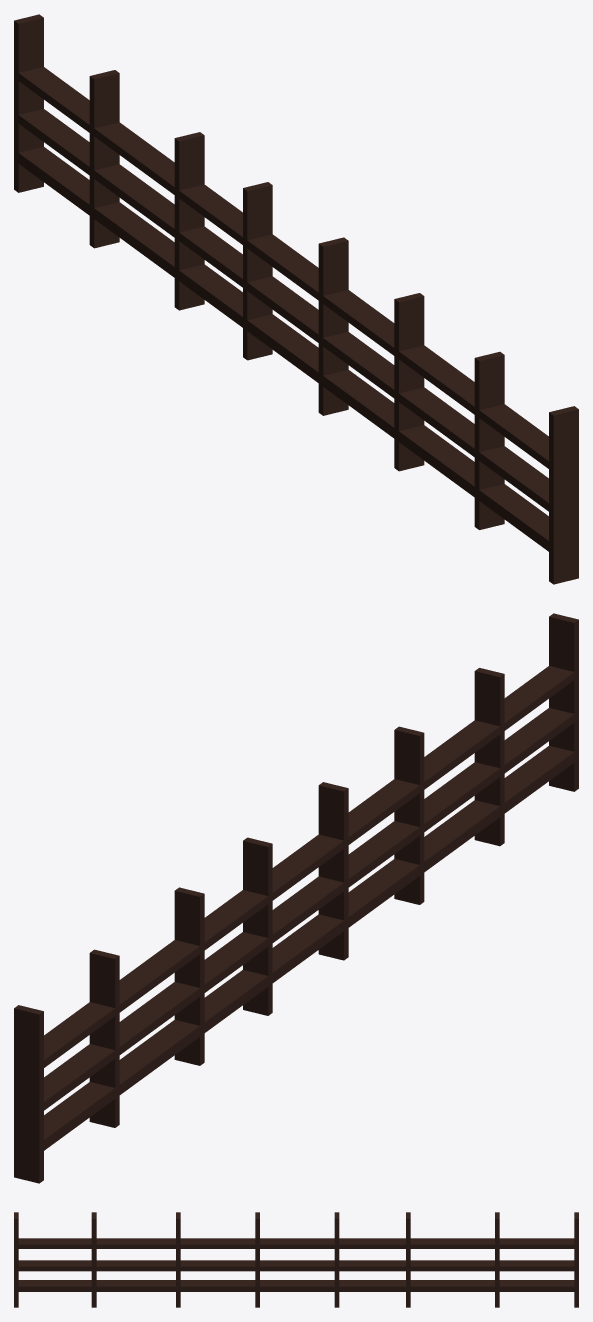
Rendered from plane.010_lev3.glb.
The picture shows the model from 3 angles, top to bottom: view 1: azimuth 30°, elevation 25°; view 2: azimuth 150°, elevation 25°; view 3: azimuth 270°, elevation 25°; orthographic projection. The views are drawn at different scales.
Visible parts, largest first — view 1: plane.010_lev3; view 2: plane.010_lev3; view 3: plane.010_lev3.
Part boxes in pixels (x1,y1,x2,y2): plane.010_lev3: [14, 14, 578, 584]; plane.010_lev3: [14, 613, 578, 1183]; plane.010_lev3: [14, 1212, 578, 1307].
Bounding box in the file's own units: 0.0612 × 0.3895 × 2.25.
